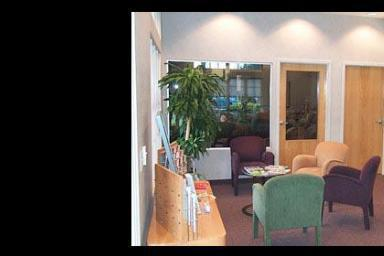Puerta: (344, 64, 384, 156), (281, 61, 327, 141)
